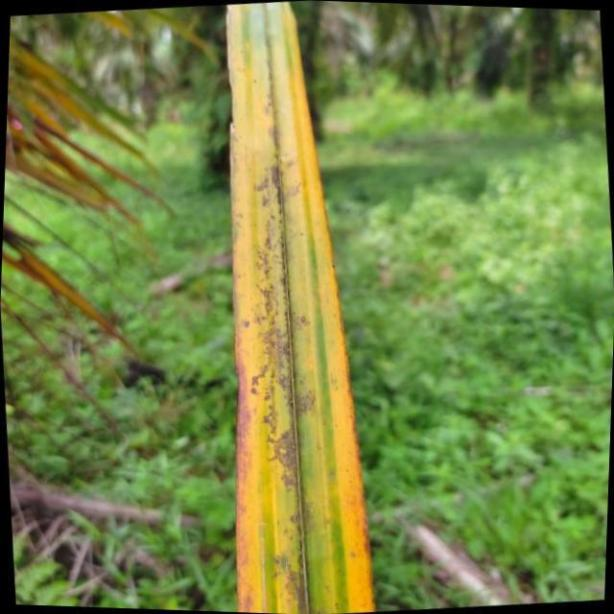Megnesium: (229, 11, 377, 614)
